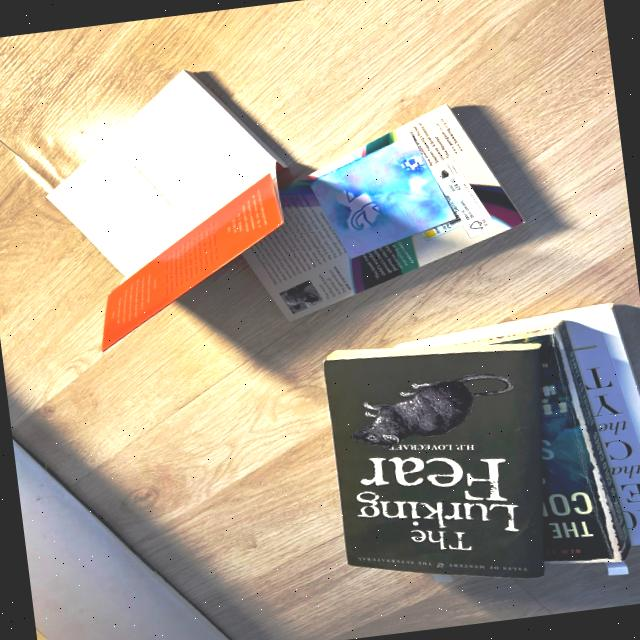Book: (47, 70, 285, 350), (393, 303, 640, 545), (243, 105, 523, 318), (401, 317, 632, 574), (324, 343, 544, 578)
